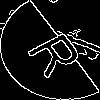R: (25, 25, 95, 80)
